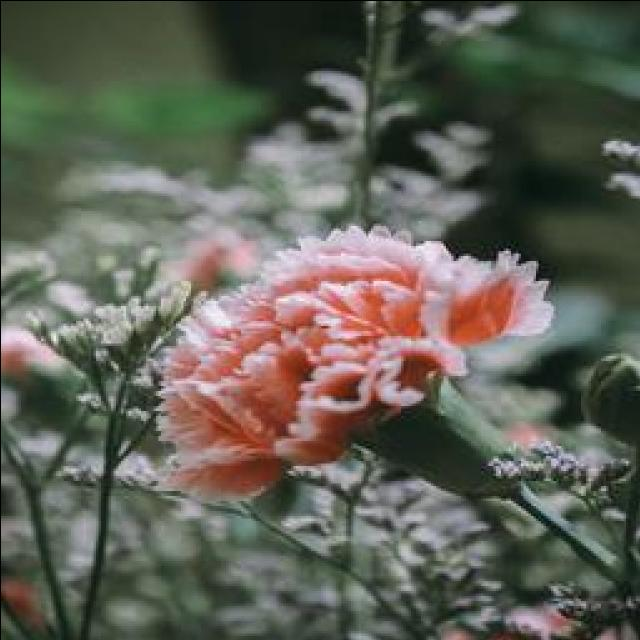carnation: (109, 185, 565, 518)
